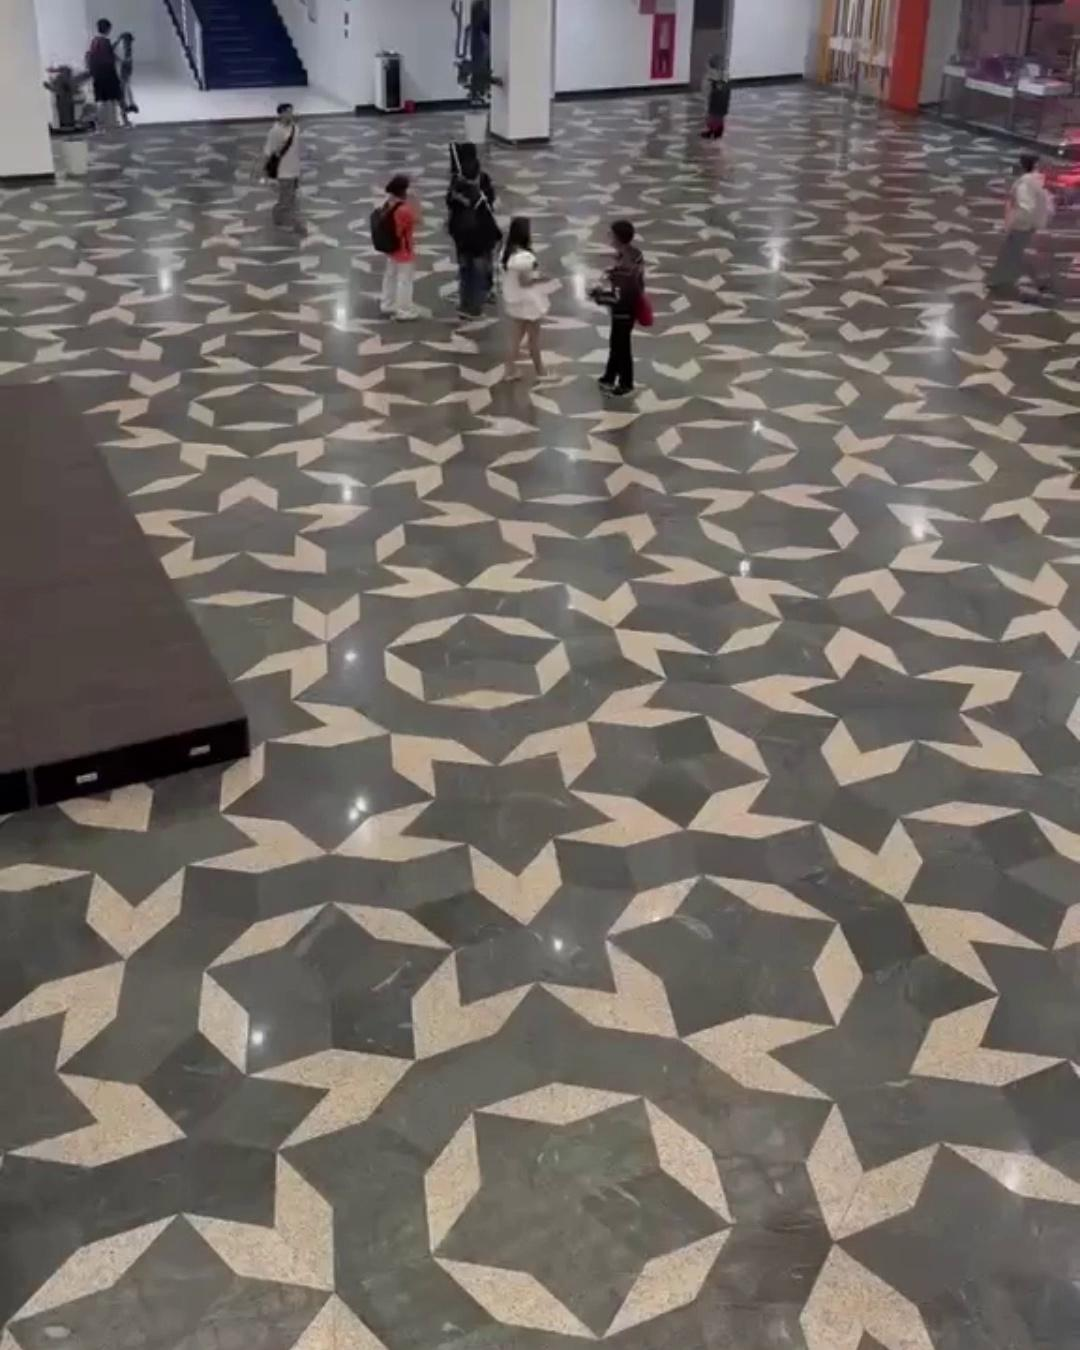your_class: (588, 219, 654, 399), (498, 215, 561, 384), (445, 142, 498, 322), (1000, 152, 1052, 310), (369, 174, 414, 322), (261, 102, 304, 233), (88, 19, 134, 129), (698, 53, 736, 181)
